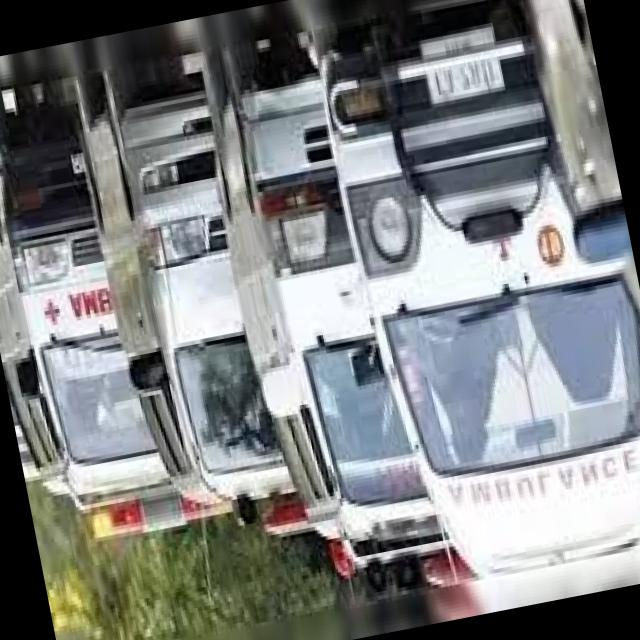ambulance: (326, 36, 640, 569), (190, 23, 420, 575), (87, 87, 296, 560), (0, 92, 165, 576), (86, 475, 232, 570)
